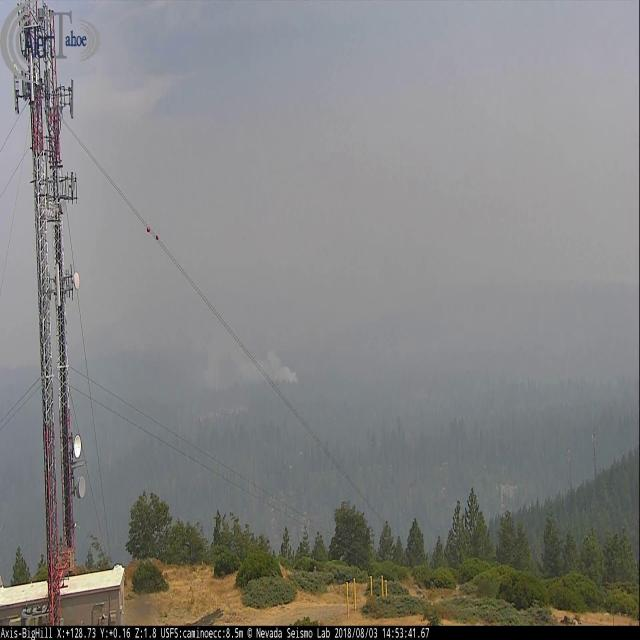smoke: (203, 328, 300, 387)
